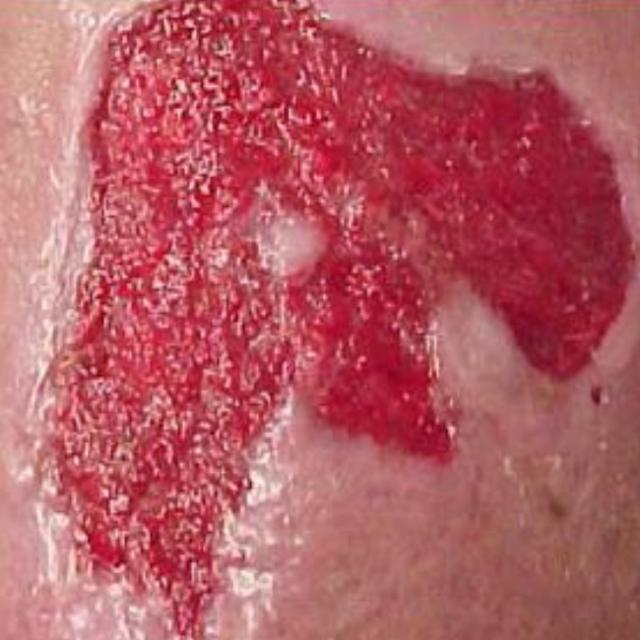stage-3: (39, 3, 631, 637)
